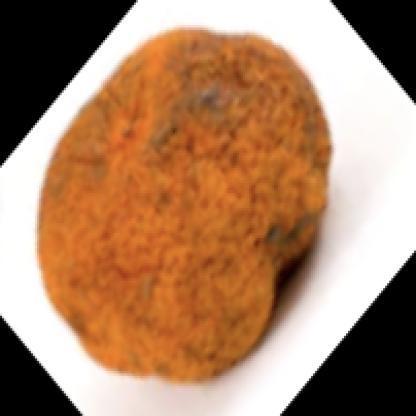rotten: (37, 26, 330, 378)
